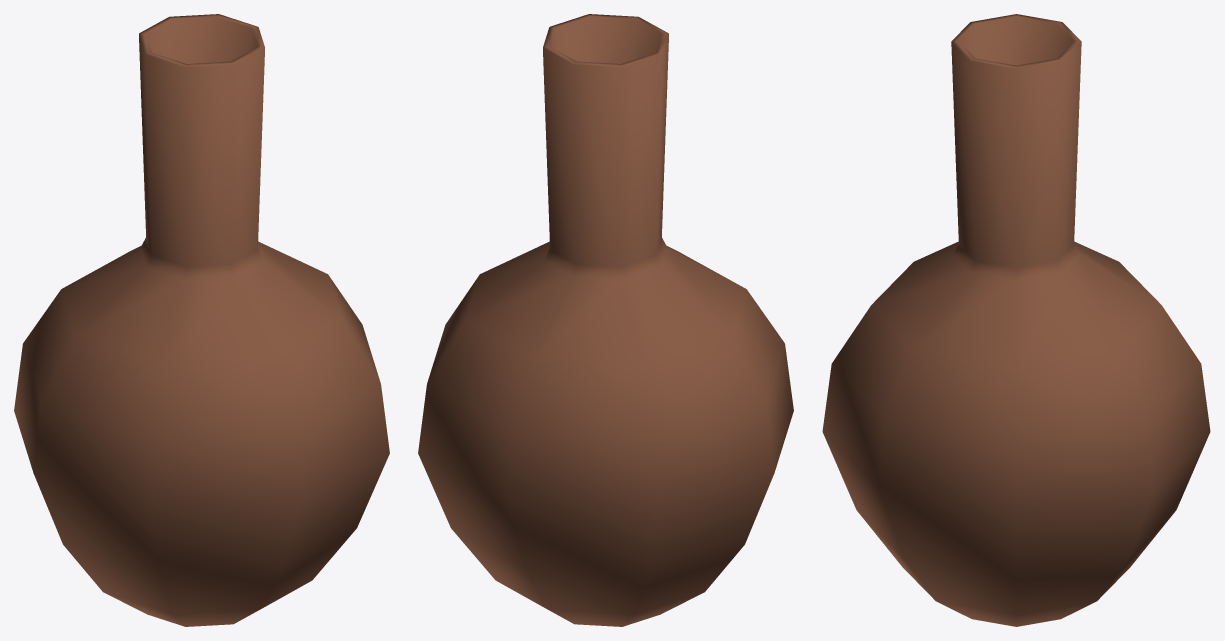
Rendered from Vaso_4.fbx.
3 views of the same model, side by side, from view 1: azimuth 30°, elevation 25°; view 2: azimuth 150°, elevation 25°; view 3: azimuth 270°, elevation 25° (orthographic).
Parts seen in each view (by area): view 1: Vaso_4; view 2: Vaso_4; view 3: Vaso_4.
Part boxes in pixels (x1=…): Vaso_4: x1=14, y1=14, x2=389, y2=626; Vaso_4: x1=418, y1=14, x2=793, y2=626; Vaso_4: x1=822, y1=14, x2=1210, y2=626.
Bounding box in the file's own units: 0.3039 × 0.3039 × 0.4831.
